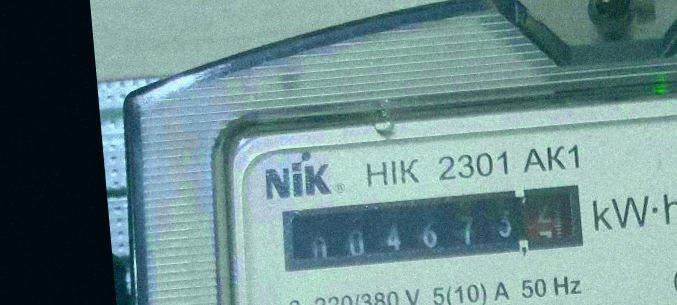0: (307, 230, 330, 262), (345, 225, 366, 257)
2: (532, 192, 554, 226)
3: (494, 205, 514, 240)
4: (382, 218, 403, 254)
6: (416, 214, 440, 250)
7: (454, 211, 479, 250)
screen: (275, 179, 589, 281)
